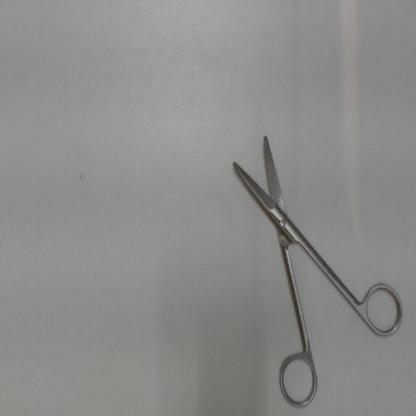Curved Mayo Scissors: (225, 127, 407, 412)
